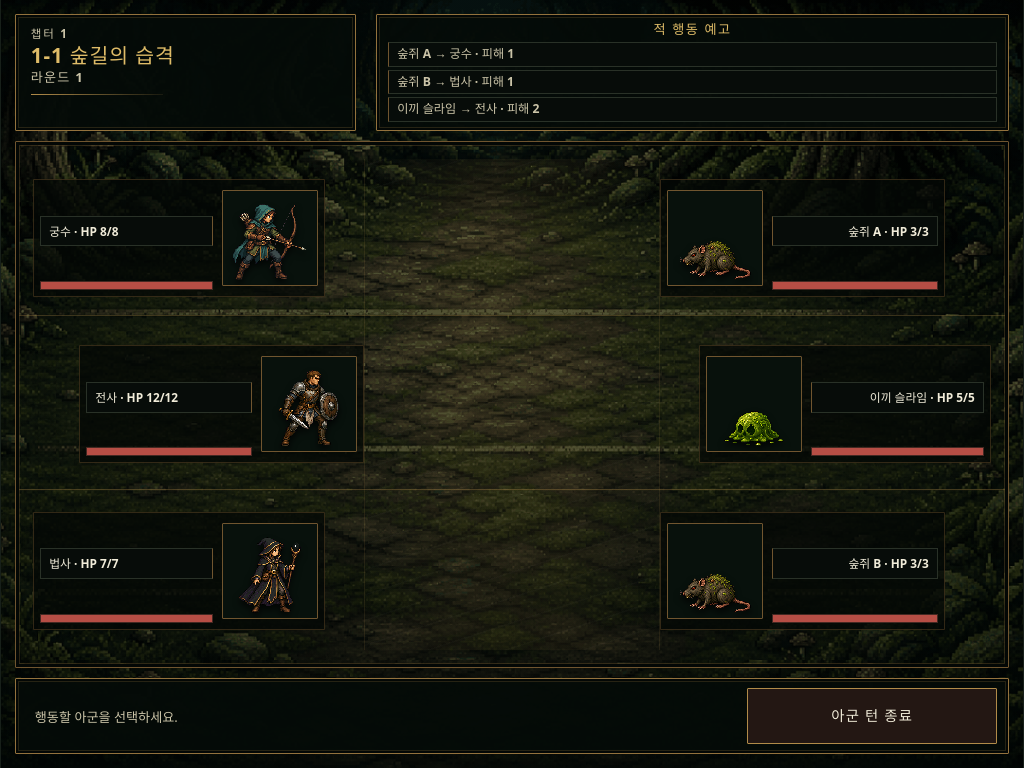
Scenario: BattleScreen › lets the archer select shot and defeat rat A
Step 1. Click the button named "궁수 선택" → x=270, y=238, box [222,190,318,286]
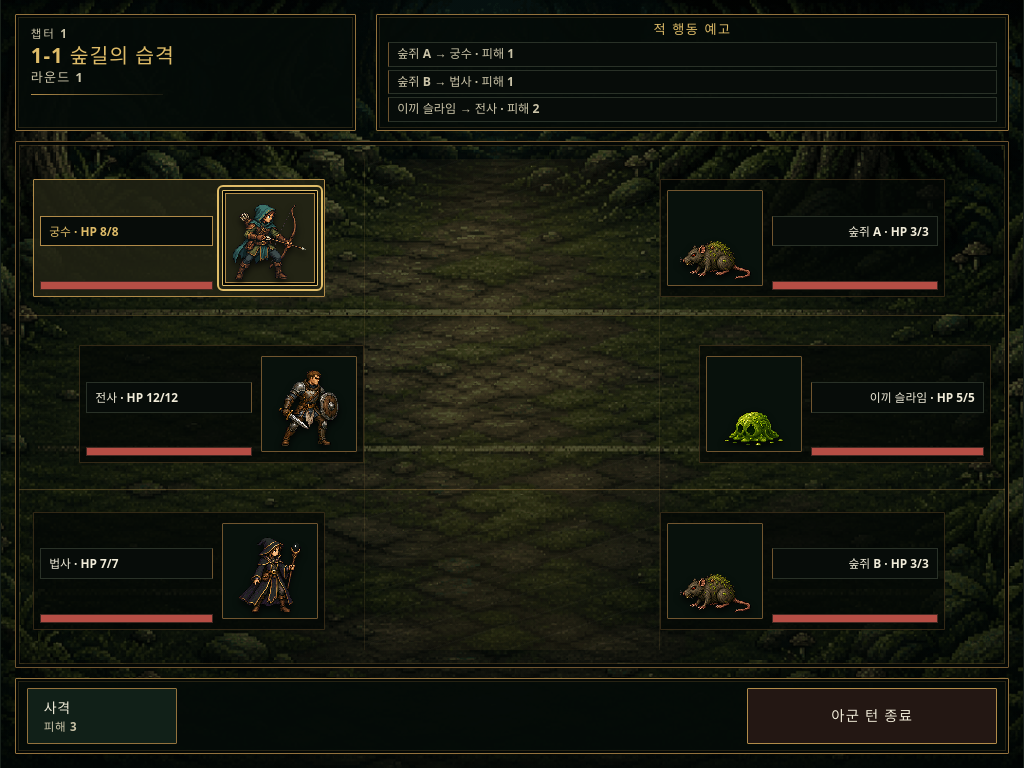
Step 2. Click the button with aria-label "사격 선택" → x=102, y=716, box [27,688,177,744]
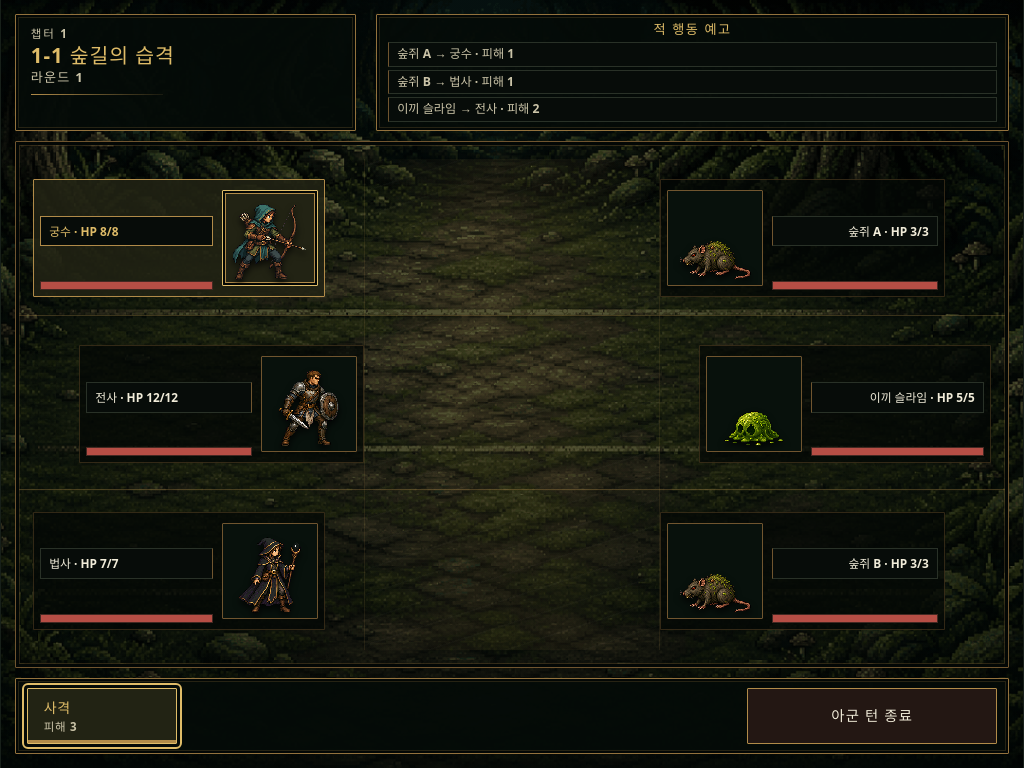
Step 3. Click the button named "숲쥐 A 공격" → x=715, y=238, box [667,190,763,286]
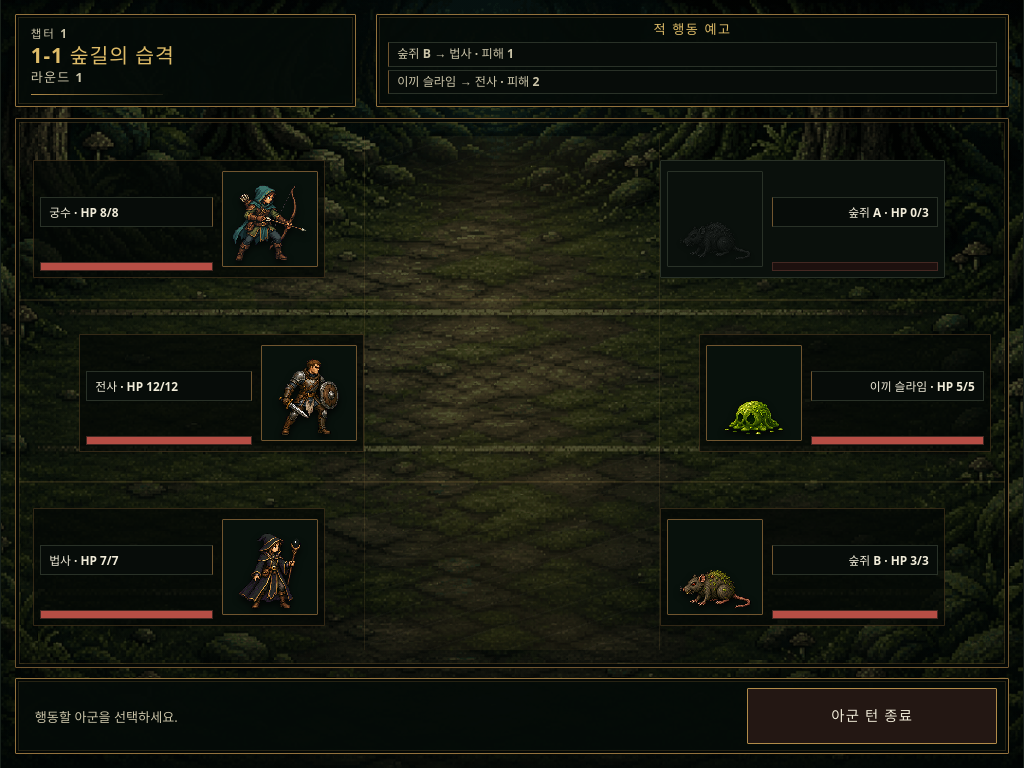
Expected: the text "숲쥐 A · HP 0/3" is shown, [772,197,938,227]
